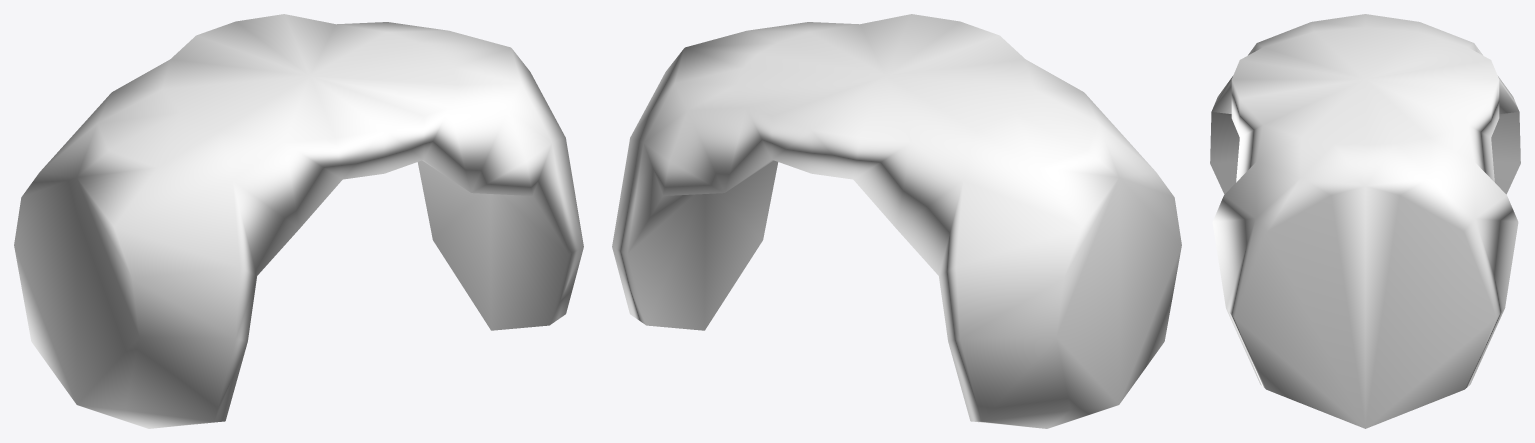
The model's file is aj1_right.obj.
3 views of the same model, side by side, from view 1: azimuth 30°, elevation 25°; view 2: azimuth 150°, elevation 25°; view 3: azimuth 270°, elevation 25° (orthographic). The views are drawn at different scales.
Size of the model in its own units: 0.2036 by 0.1407 by 0.1402.
Materials: 1 (1 with a texture image).
